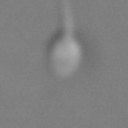normal: (53, 1, 82, 32)
